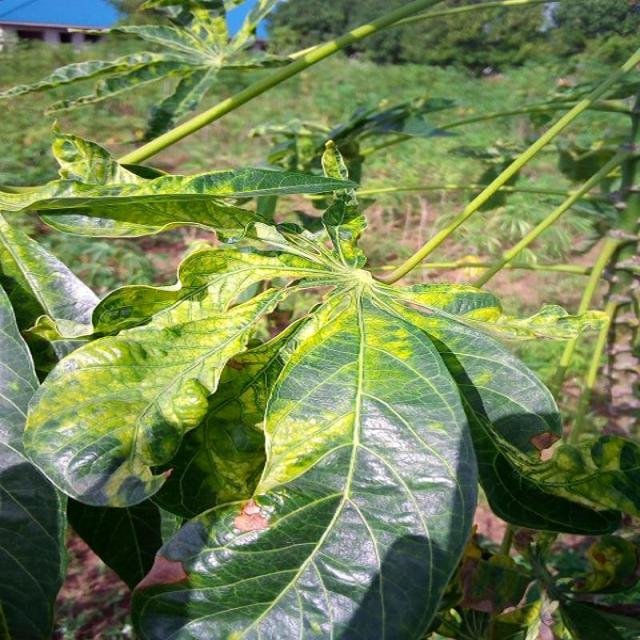cassava leaf: (128, 277, 562, 638), (21, 279, 288, 509)
